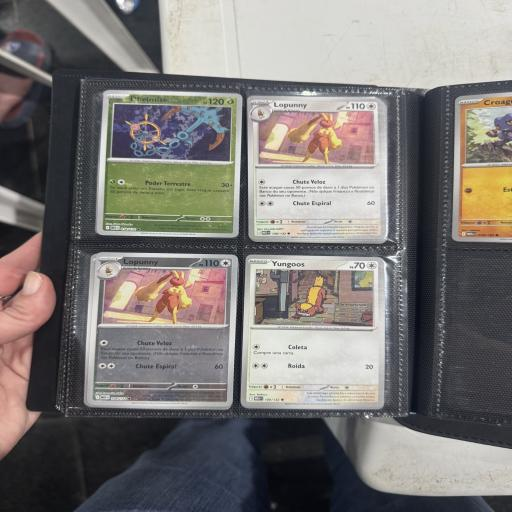card: (86, 252, 239, 406), (240, 254, 386, 408), (96, 90, 243, 237), (247, 94, 389, 241)
